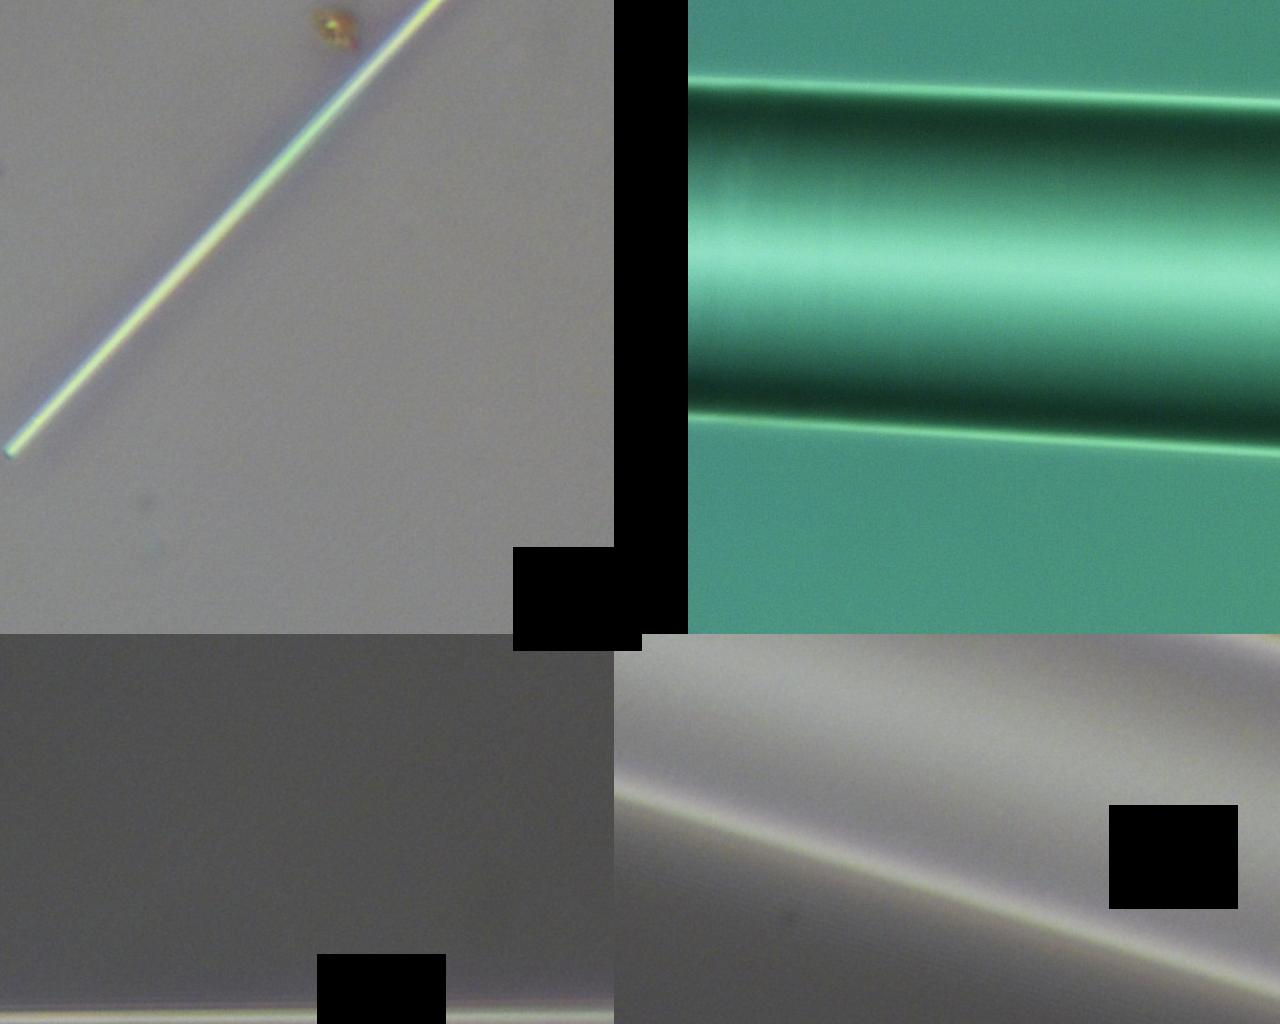fiber: (614, 634, 1280, 1003), (688, 74, 1280, 455), (1, 0, 446, 463)
